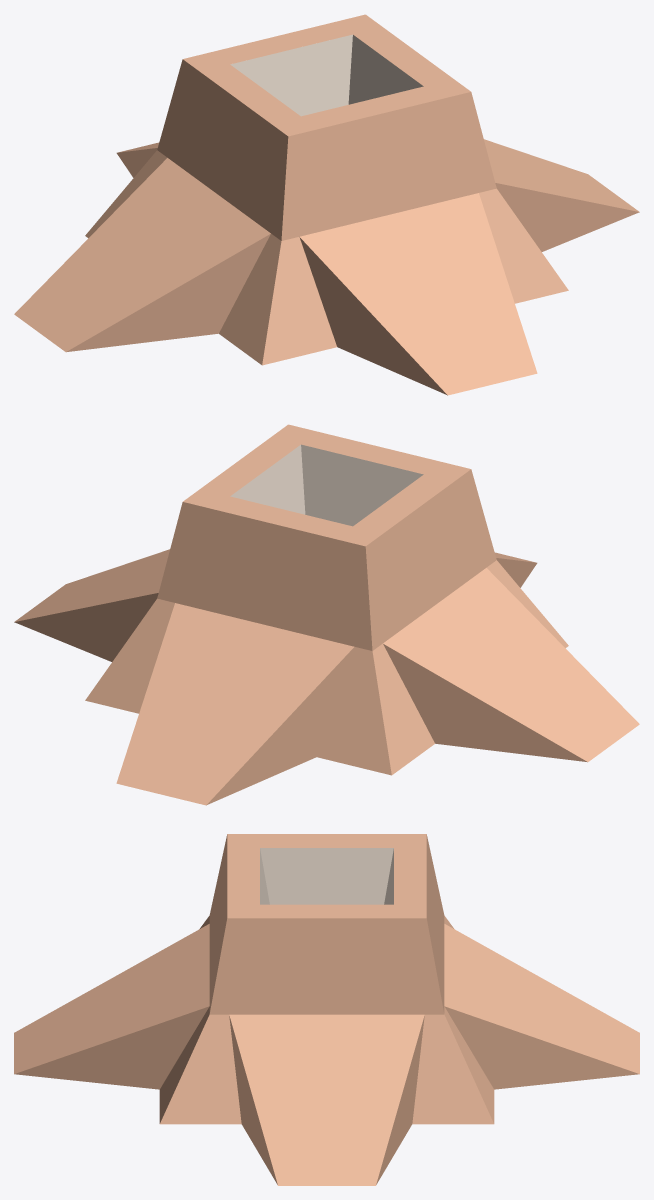
File: stump_squareDetailedWide.glb
3 views of the same model, one above another, from view 1: azimuth 30°, elevation 25°; view 2: azimuth 150°, elevation 25°; view 3: azimuth 270°, elevation 25° (orthographic). The views are drawn at different scales.
Parts seen in each view (by area): view 1: stump_squareDetailedWide; view 2: stump_squareDetailedWide; view 3: stump_squareDetailedWide.
Boxes of the visible parts, <box> form: stump_squareDetailedWide: <box>14,14,639,395</box>; stump_squareDetailedWide: <box>14,424,639,805</box>; stump_squareDetailedWide: <box>14,834,639,1185</box>.
Size of the model in its own units: 0.64 by 0.2 by 0.64.
